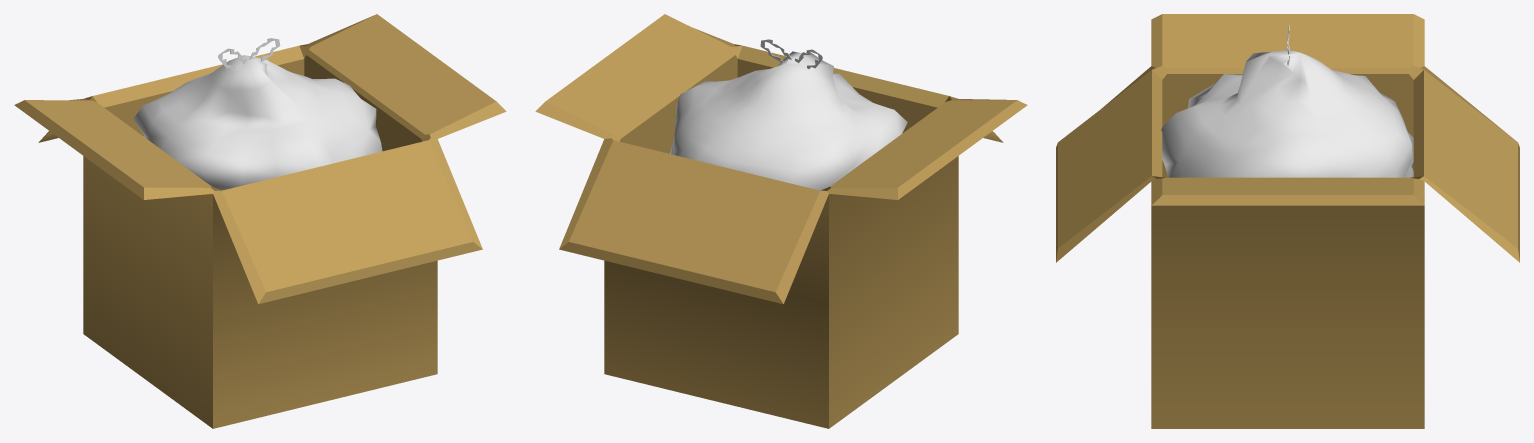
The model's file is Bag&Box.fbx.
3 renders of one model, left to right at view 1: azimuth 30°, elevation 25°; view 2: azimuth 150°, elevation 25°; view 3: azimuth 270°, elevation 25°, orthographic. The views are drawn at different scales.
Parts seen in each view (by area): view 1: polySurface2, polySurface7; view 2: polySurface2, polySurface7; view 3: polySurface2, polySurface7.
Part boxes in pixels (left/top/right/bottom): polySurface2: left=14, top=14, right=506, bottom=428; polySurface7: left=133, top=38, right=382, bottom=190; polySurface2: left=535, top=14, right=1027, bottom=428; polySurface7: left=670, top=39, right=907, bottom=190; polySurface2: left=1056, top=14, right=1519, bottom=428; polySurface7: left=1161, top=25, right=1413, bottom=177.
Bounding box in the file's own units: 11.98 × 9.87 × 12.59.
